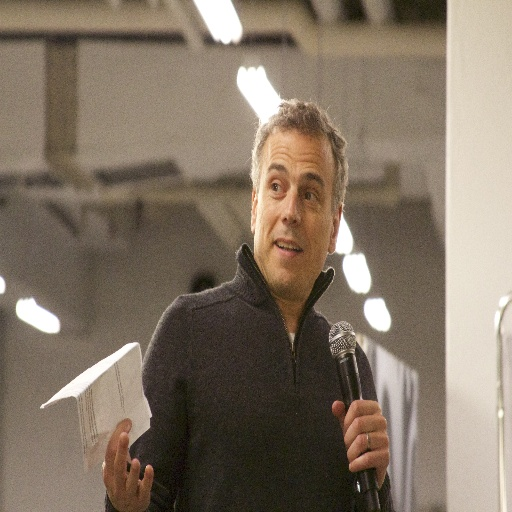hand: (328, 379, 395, 484), (99, 415, 153, 511)
